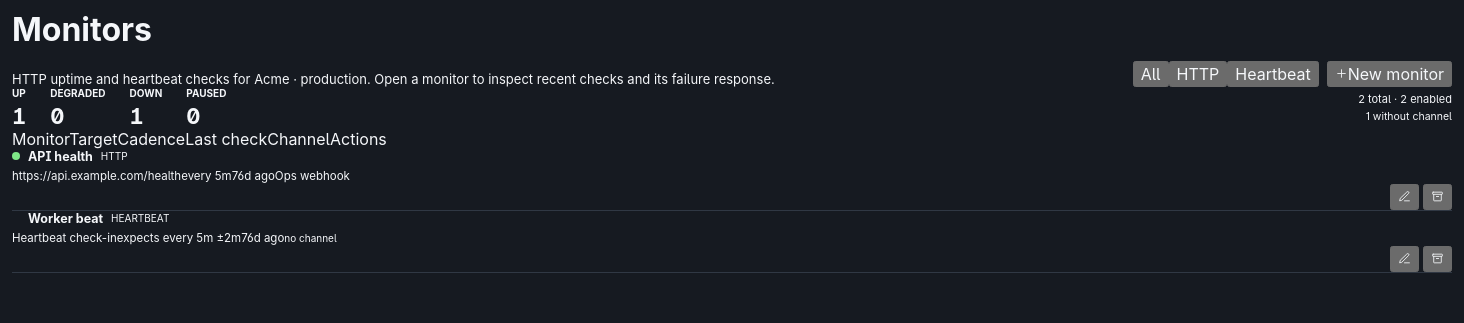
Test: MonitorsScreen — display › loads and shows check history when a monitor row is selected
Click the text "API health": {"x": 60, "y": 156} 28,149 -> 93,164
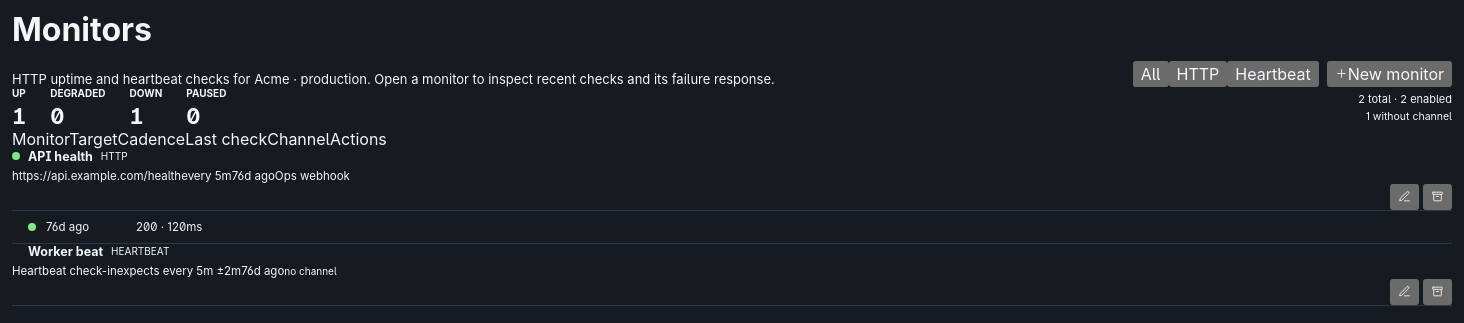
Expected: the text "200 · 120ms" is shown, 136,220 -> 202,234
